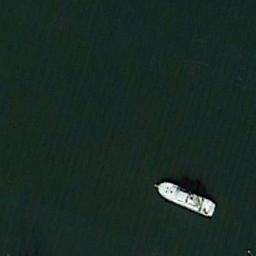boat: (152, 179, 217, 217)
